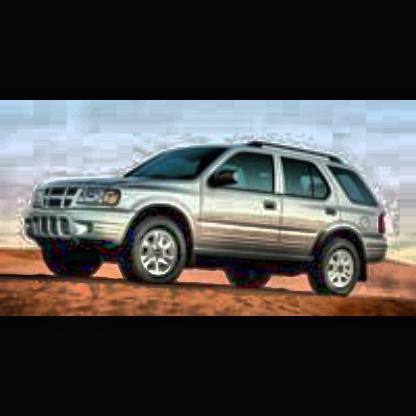Isuzu Ascender SUV 2008: (17, 141, 397, 305)
